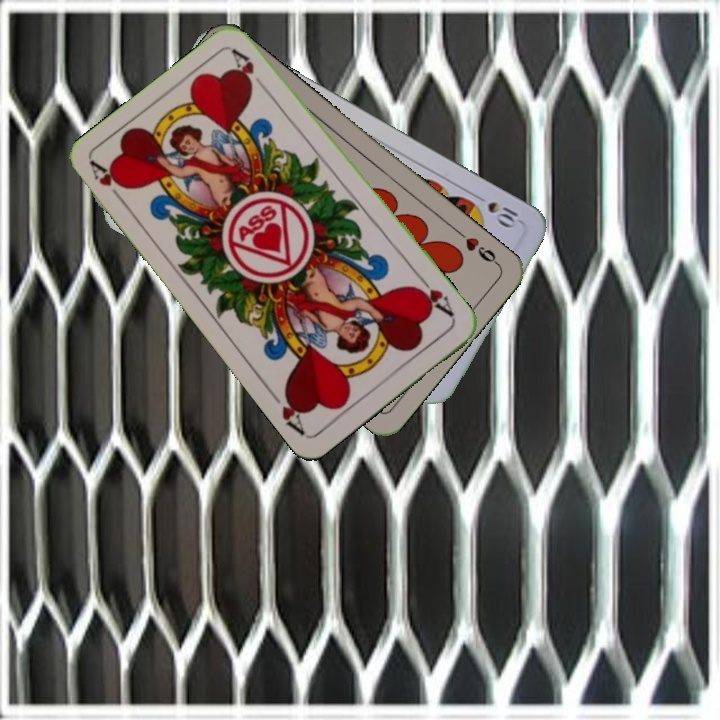H9: (452, 226, 502, 268)
HA: (410, 271, 457, 320), (87, 158, 131, 209)
S10: (483, 197, 521, 230)
